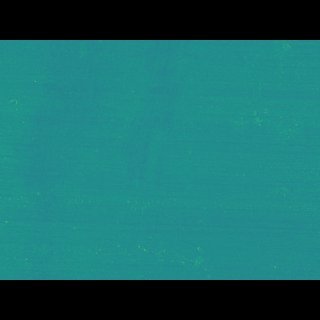Loch: (0, 70, 204, 194), (120, 192, 221, 250)
